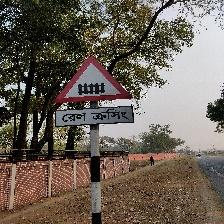Rail-crossing: (52, 55, 135, 128)
